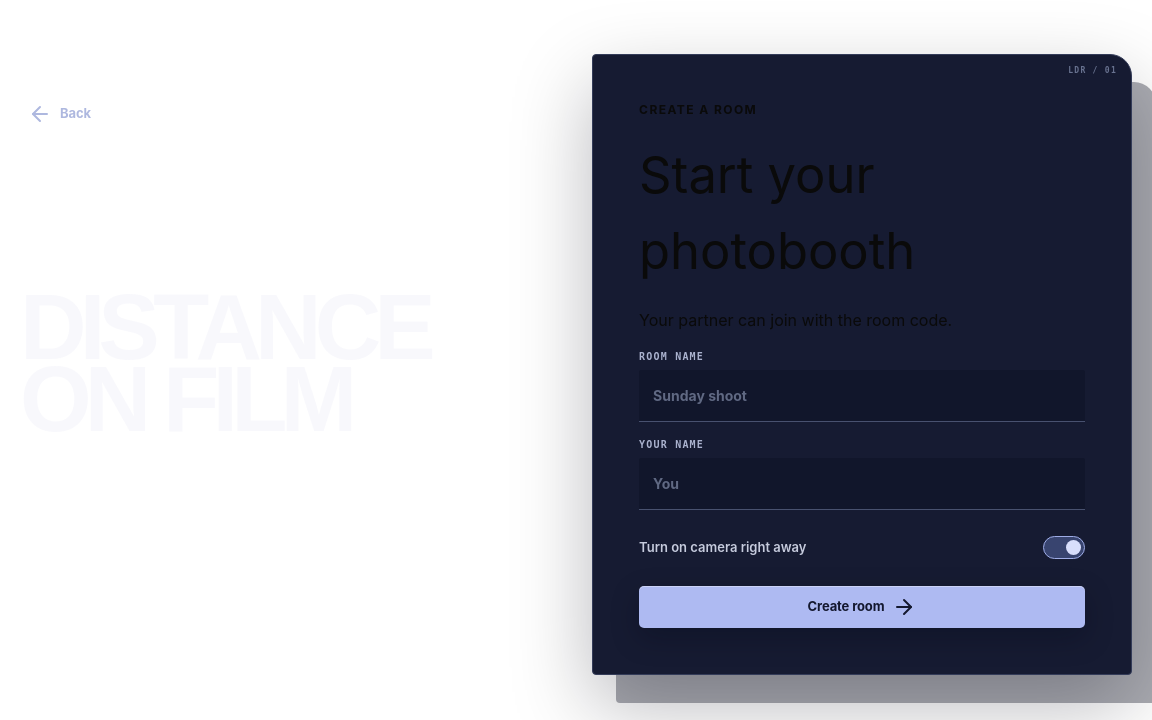
Test: Phase 08 accessible UI › guards create-room Enter submission with a persistent field error
This screenshot has width=1152, height=720.
Submit the form "Start your photobooth", box [639,101,1085,628]
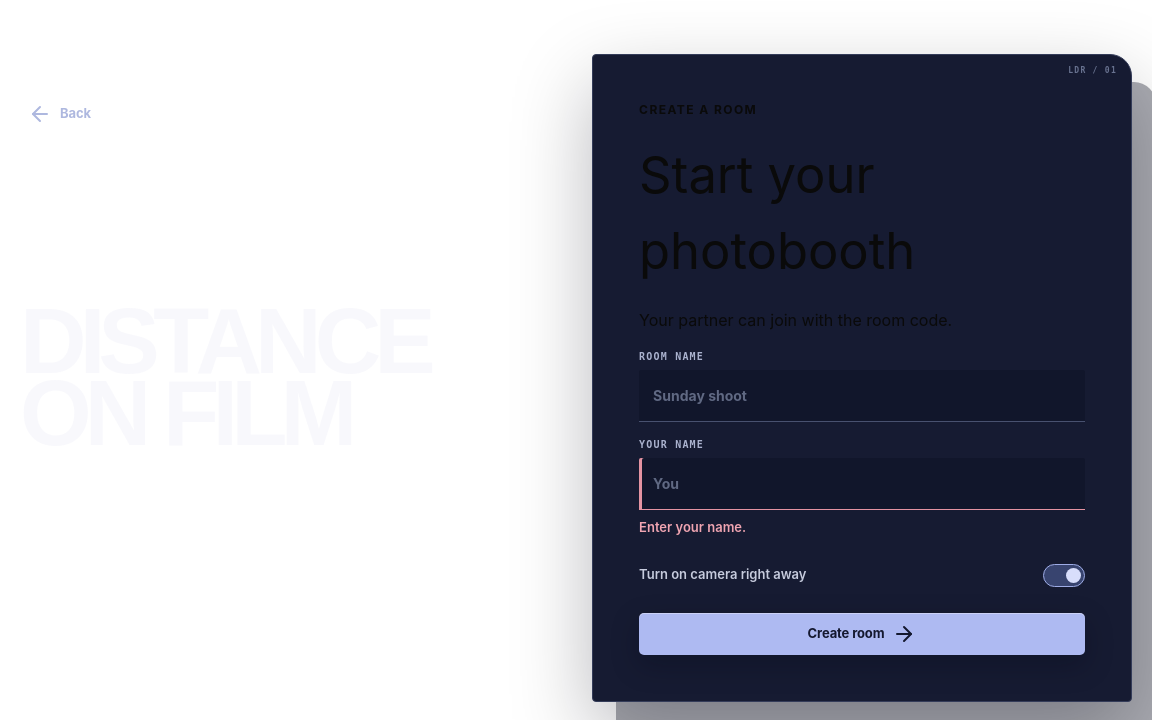
Now the text "Enter your name." is shown, box [639,518,746,534]
Type "Alex" into the field labelled "Your name". click: (862, 484)
box: [639,458,1085,510]
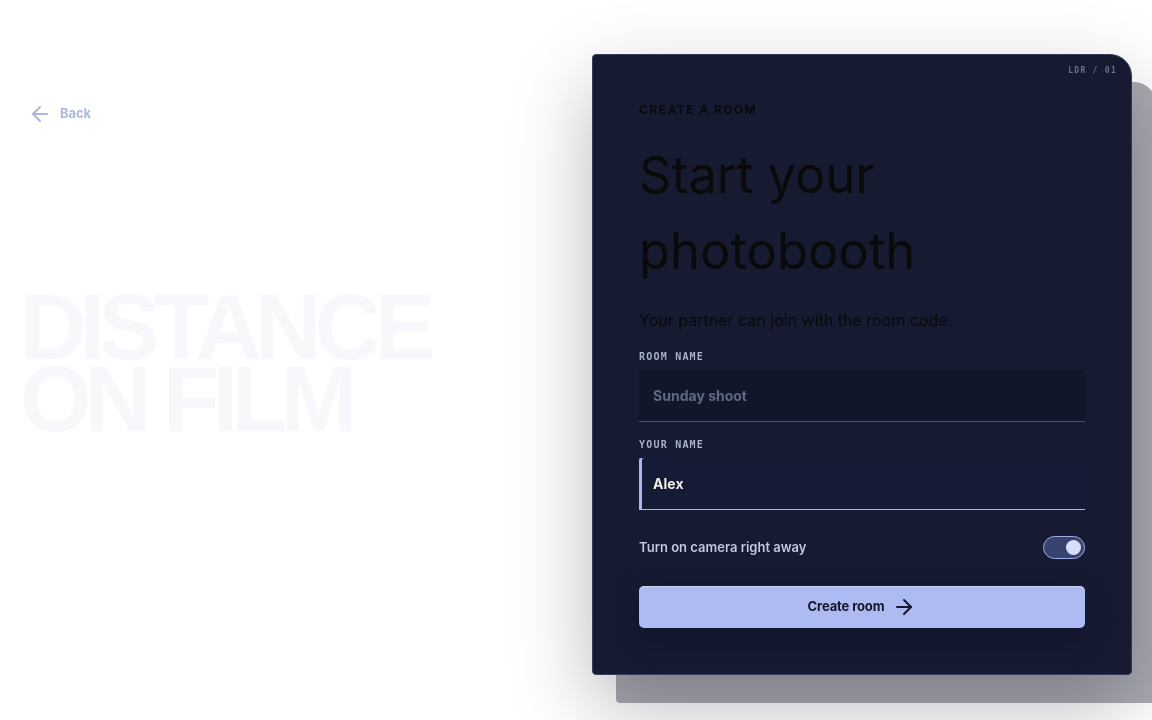
Now the text "Enter your name." is gone
